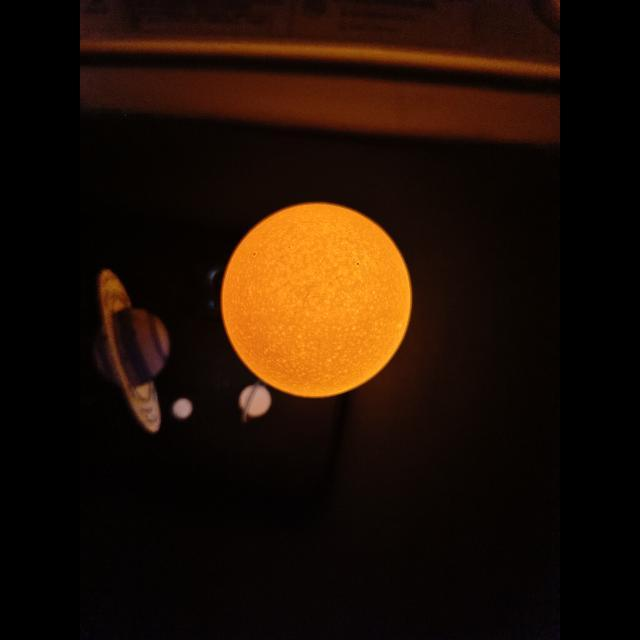AA - Premium: (221, 203, 411, 398)
